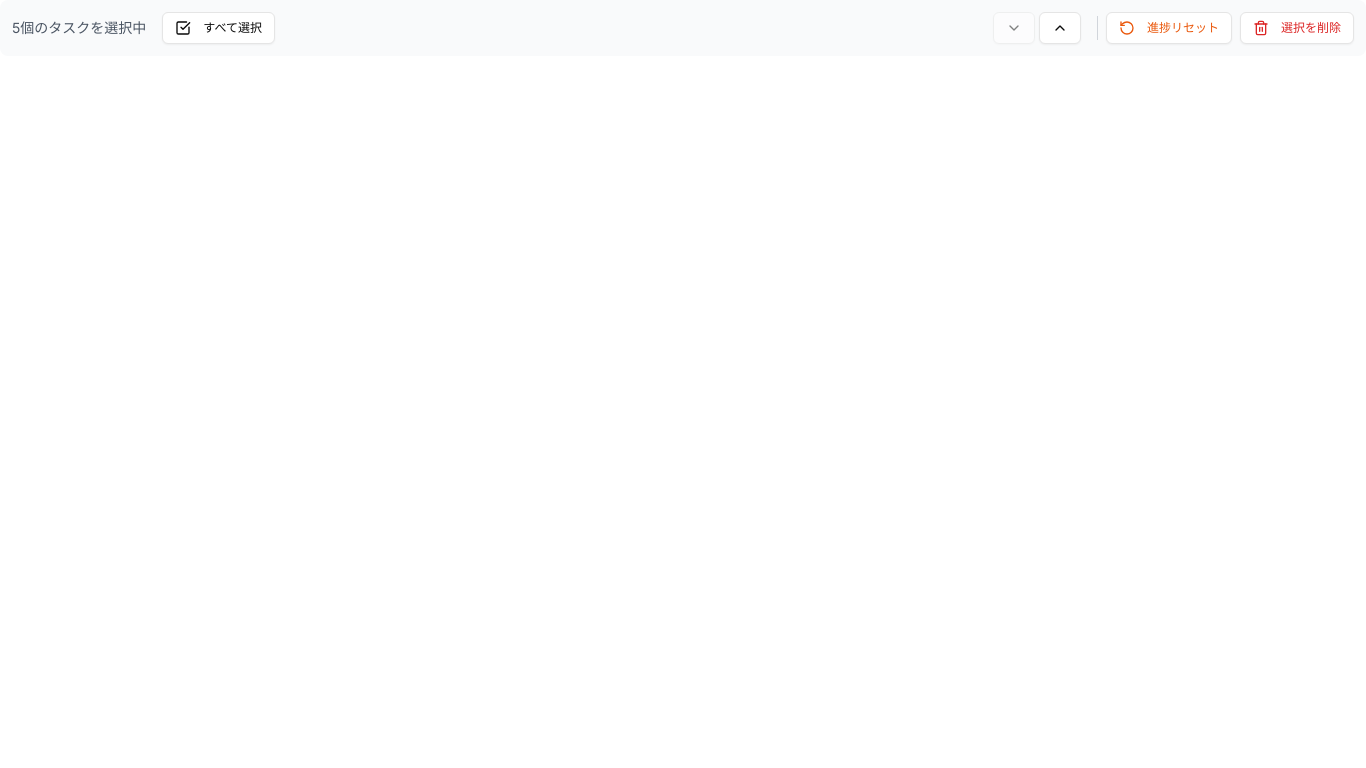
Test: WBSBulkActions › shows reset progress confirmation dialog
Click the button "進捗リセット": point(1169, 28) x1=1106 y1=12 x2=1232 y2=44
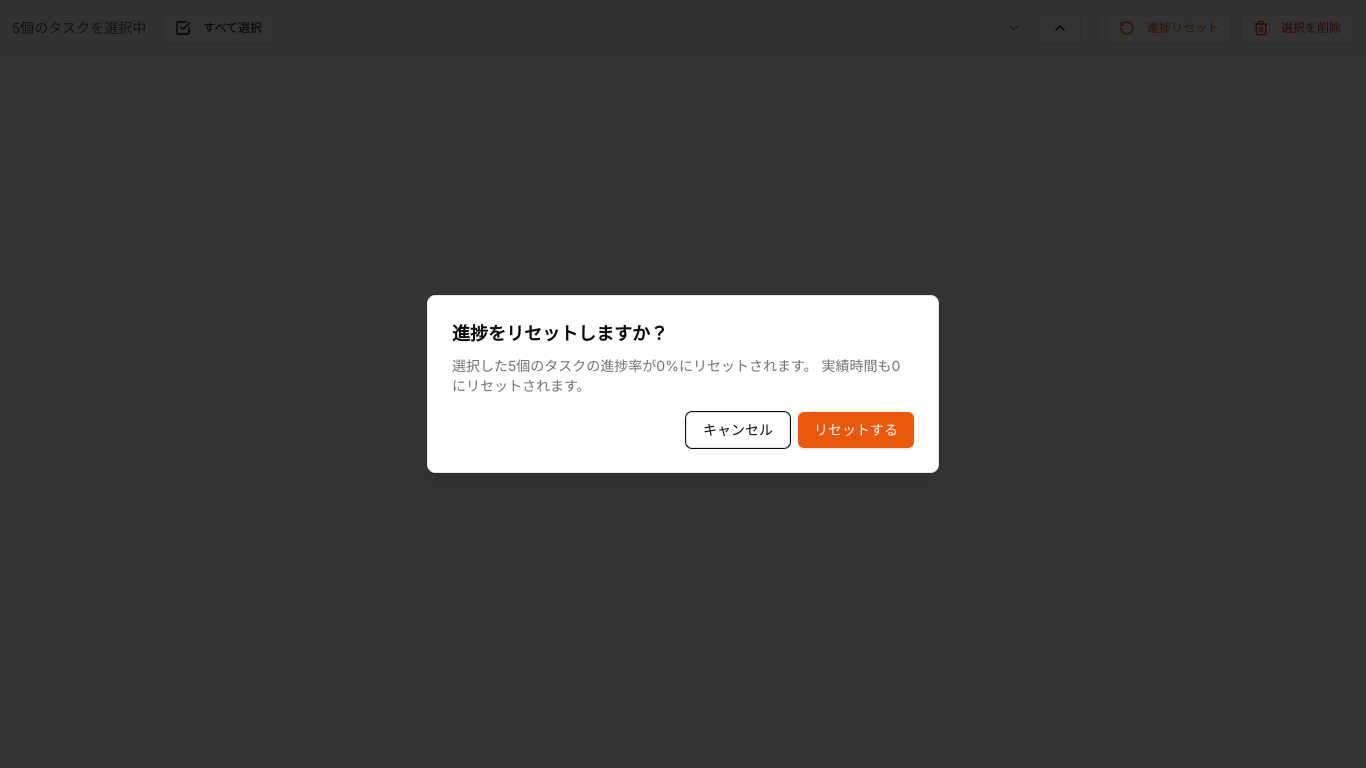
Check: the heading "進捗をリセットしますか？" is shown, box x1=452 y1=323 x2=668 y2=344
Check: the text "選択した5個のタスクの進捗率が0%にリセットされます。 実績時間も0にリセットされます。" is shown, box x1=452 y1=356 x2=914 y2=396
